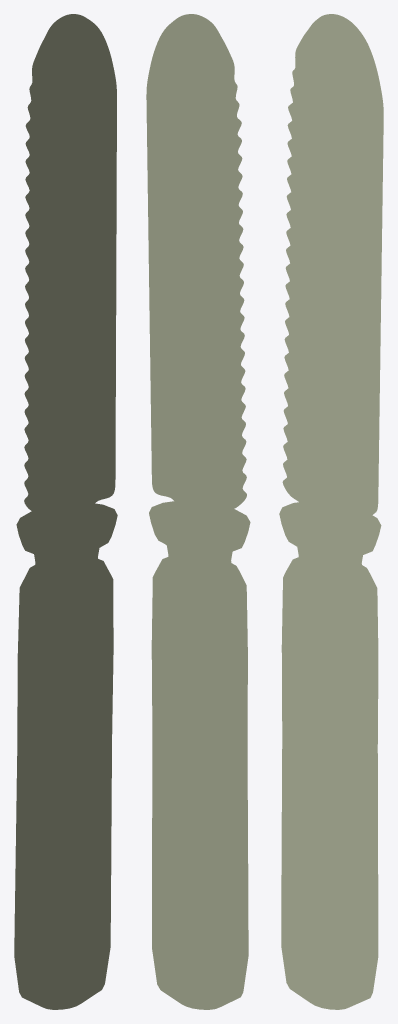
The model's file is knife1.dae.
The picture shows the model from 3 angles, left to right: view 1: azimuth 30°, elevation 25°; view 2: azimuth 150°, elevation 25°; view 3: azimuth 330°, elevation 25°; orthographic projection.
Visible parts, largest first — view 1: STL object-0; view 2: STL object-0; view 3: STL object-0.
Part boxes in pixels (x1=…): STL object-0: x1=14, y1=14, x2=117, y2=1009; STL object-0: x1=146, y1=14, x2=250, y2=1009; STL object-0: x1=279, y1=14, x2=383, y2=1009.
Size of the model in its own units: 0.0203 by 0.1967 by 0.014.
